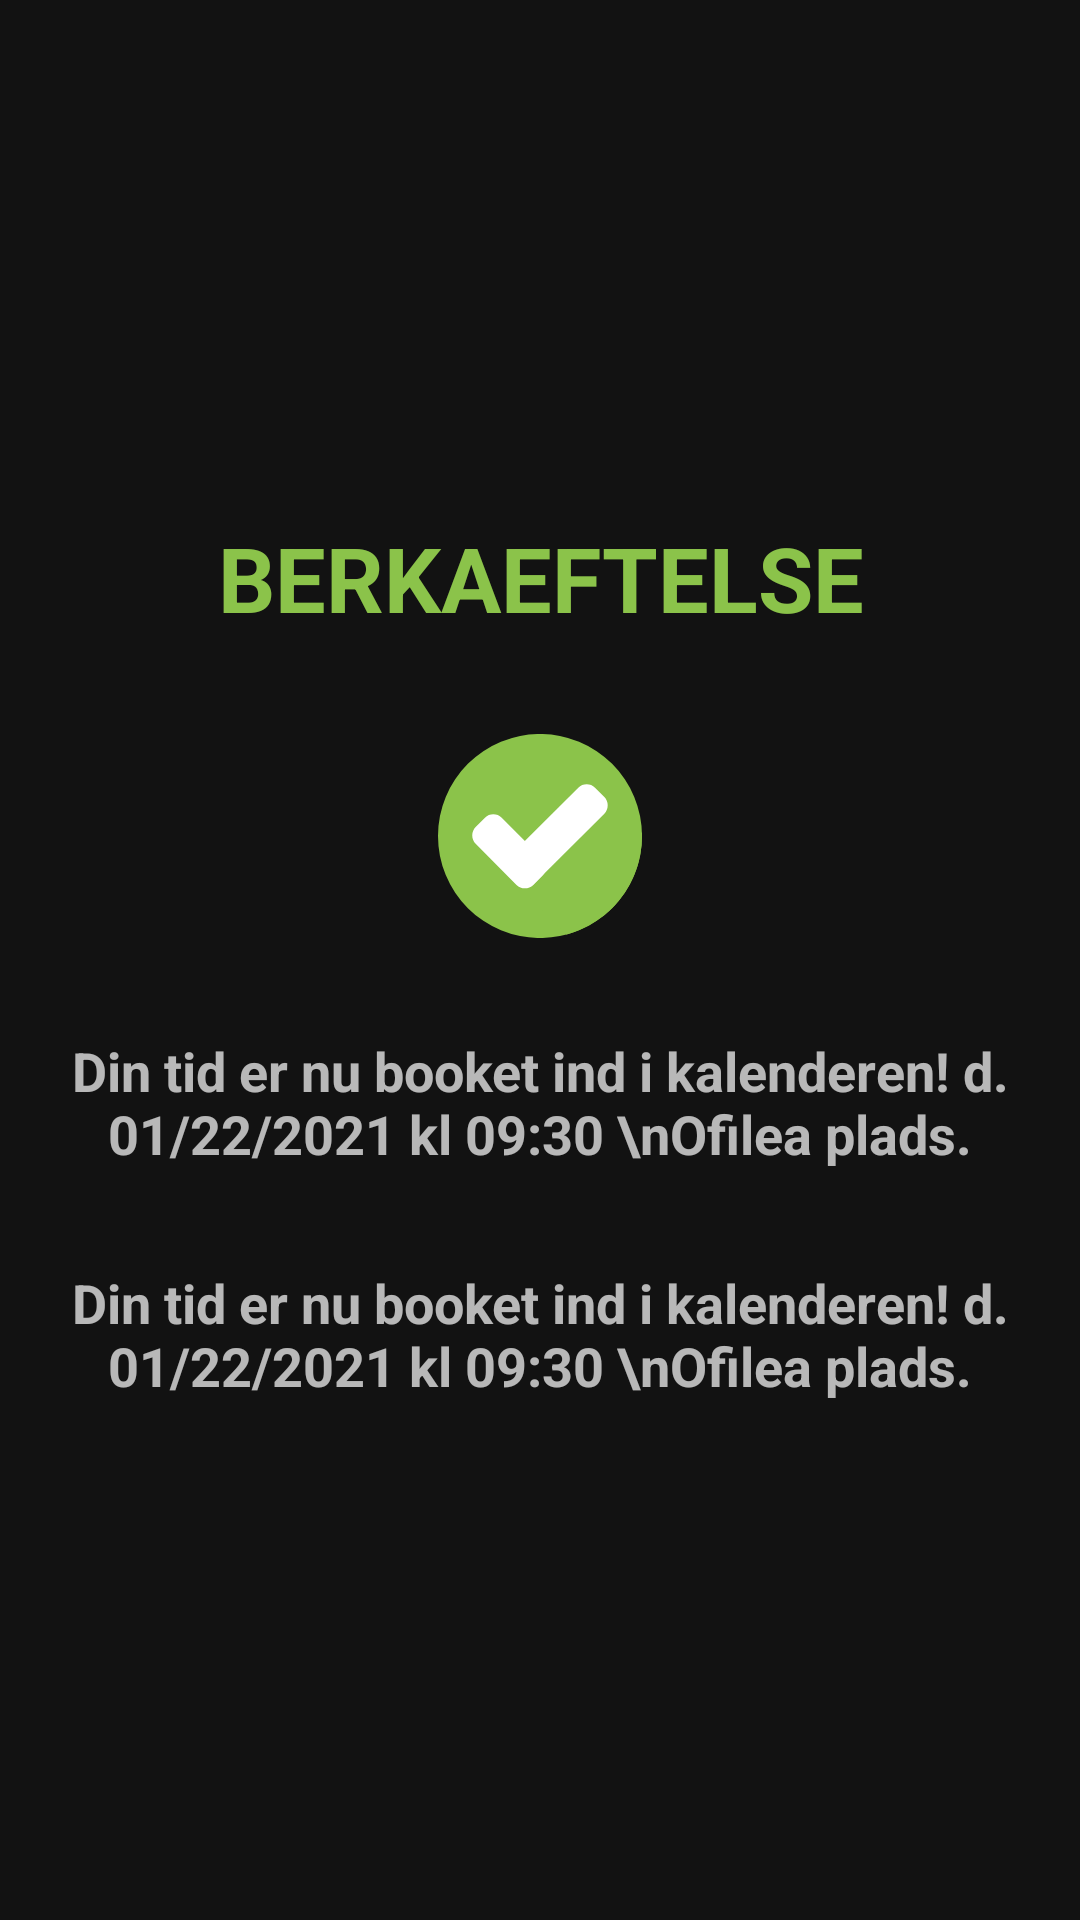

Named icons in this screenshot (1080 × 1920) and their bounding boxes, [left=x1, top=y1, right=x2, bottom=y2]:
checked: [left=438, top=734, right=642, bottom=938]
